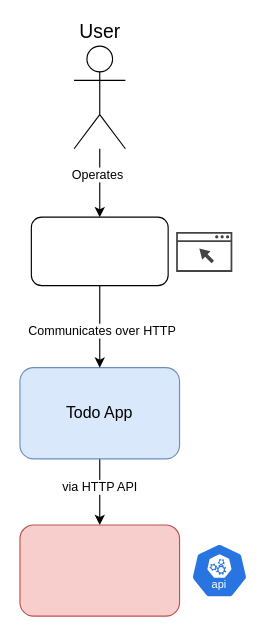
The diagram is 268 pixels wide and 636 high, and some of its shapes have lost their labels. Here are the shapes that lost their labels. From the top down, the centre of each, then its label:
the point at 99,251: Web Browser (Client)
the point at 99,570: Trello API
